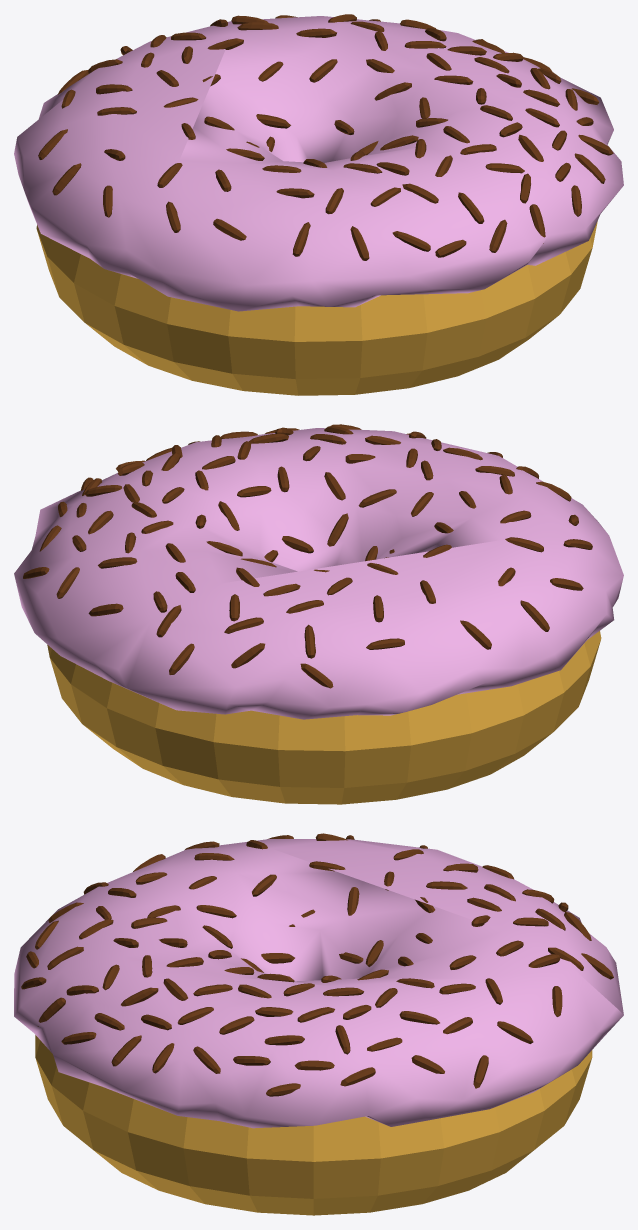
Rendered from donut.fbx.
3 views of the same model, one above another, from view 1: azimuth 30°, elevation 25°; view 2: azimuth 150°, elevation 25°; view 3: azimuth 270°, elevation 25° (orthographic).
Visible parts, largest first — view 1: Liquid Domain; view 2: Liquid Domain; view 3: Liquid Domain.
Boxes of the visible parts, x1,y1,x2,y2 form: Liquid Domain: (14,14,623,395); Liquid Domain: (14,424,623,804); Liquid Domain: (14,833,623,1215).
Bounding box in the file's own units: 335 × 124 × 326.
